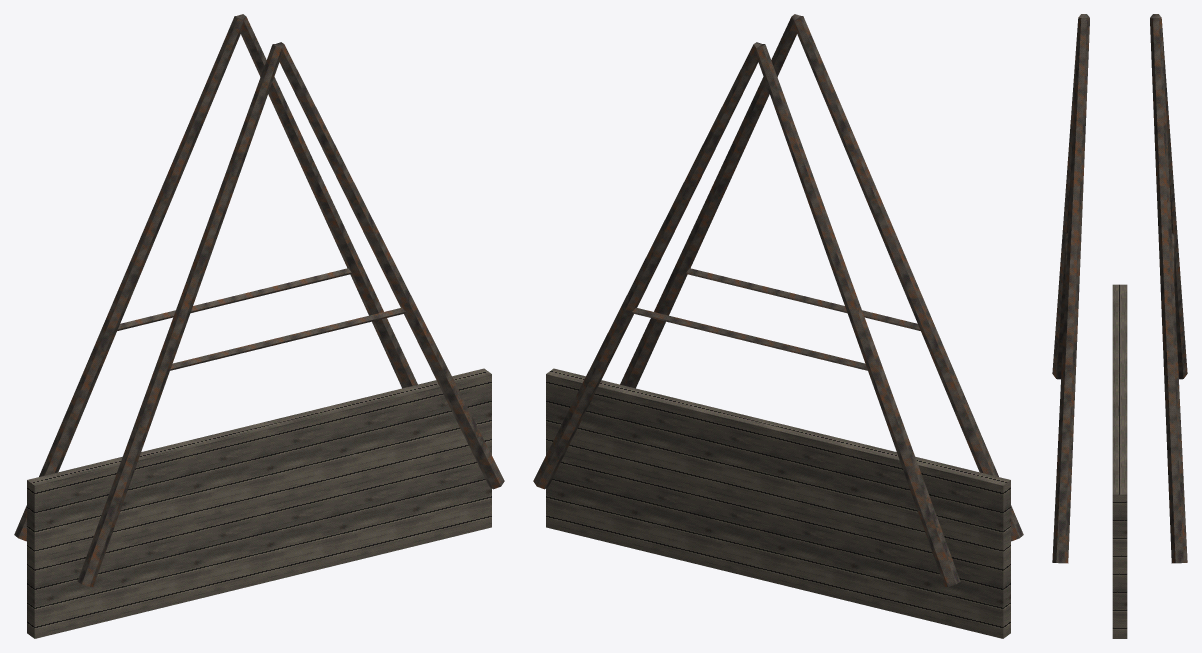
The model's file is noria_soporte.obj.
The picture shows the model from 3 angles, left to right: view 1: azimuth 30°, elevation 25°; view 2: azimuth 150°, elevation 25°; view 3: azimuth 270°, elevation 25°; orthographic projection. The views are drawn at different scales.
Parts seen in each view (by area): view 1: noria_soporte; view 2: noria_soporte; view 3: noria_soporte.
Boxes of the visible parts, bbox=[...] form: noria_soporte: bbox=[14, 14, 504, 638]; noria_soporte: bbox=[533, 14, 1023, 638]; noria_soporte: bbox=[1052, 14, 1187, 638].
Size of the model in its own units: 10 by 11.5 by 2.72.
Materials: 2 (2 with a texture image).
